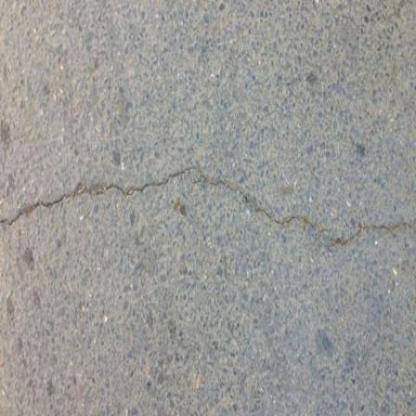Cracks: (1, 165, 416, 277)
